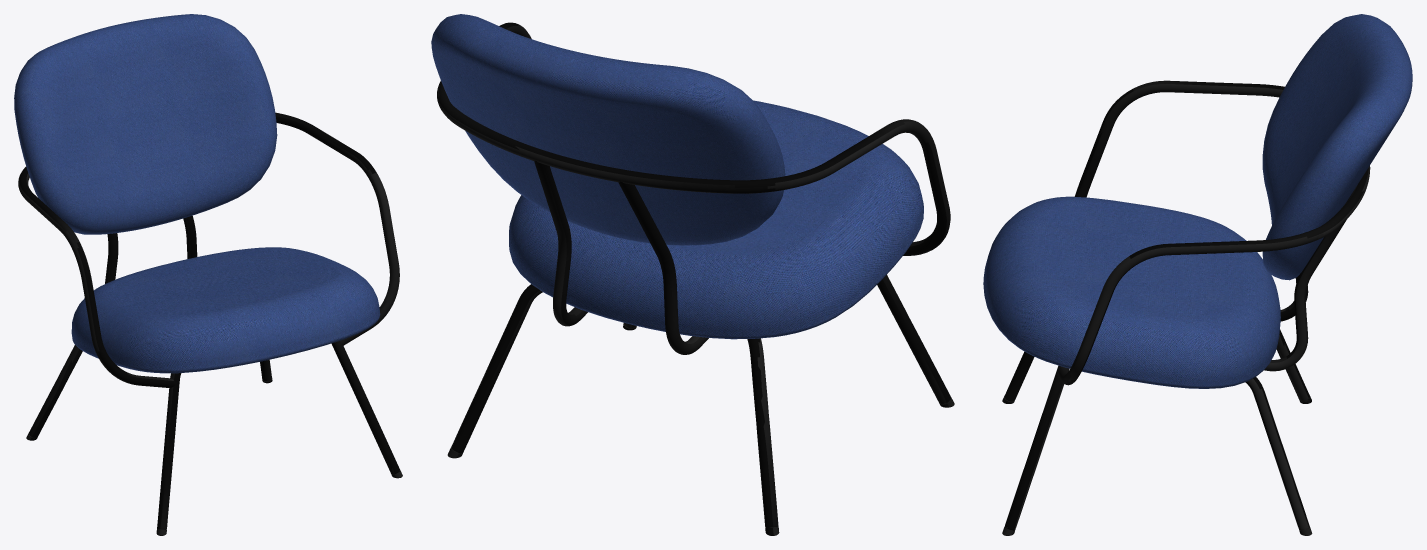
The model's file is Puik - PI Lounge Armrest.fbx.
The picture shows the model from 3 angles, left to right: view 1: azimuth 30°, elevation 25°; view 2: azimuth 150°, elevation 25°; view 3: azimuth 270°, elevation 25°; orthographic projection. The views are drawn at different scales.
Visible parts, largest first — view 1: Puik - PI Lounge Armrest - Backrest, Puik - Pi Lounge Armrest - Seat, Puik - PI Lounge Armrest - Frame; view 2: Puik - PI Lounge Armrest - Backrest, Puik - Pi Lounge Armrest - Seat, Puik - PI Lounge Armrest - Frame; view 3: Puik - Pi Lounge Armrest - Seat, Puik - PI Lounge Armrest - Backrest, Puik - PI Lounge Armrest - Frame.
Boxes of the visible parts, bbox=[...] form: Puik - PI Lounge Armrest - Backrest: bbox=[14, 14, 277, 234]; Puik - Pi Lounge Armrest - Seat: bbox=[71, 247, 380, 373]; Puik - PI Lounge Armrest - Frame: bbox=[18, 112, 402, 535]; Puik - PI Lounge Armrest - Backrest: bbox=[431, 14, 785, 245]; Puik - Pi Lounge Armrest - Seat: bbox=[509, 100, 923, 339]; Puik - PI Lounge Armrest - Frame: bbox=[437, 22, 954, 535]; Puik - Pi Lounge Armrest - Seat: bbox=[983, 196, 1280, 388]; Puik - PI Lounge Armrest - Backrest: bbox=[1262, 14, 1412, 280]; Puik - PI Lounge Armrest - Frame: bbox=[1002, 80, 1370, 535].
Bounding box in the file's own units: 70.13 × 74.3 × 77.83.
